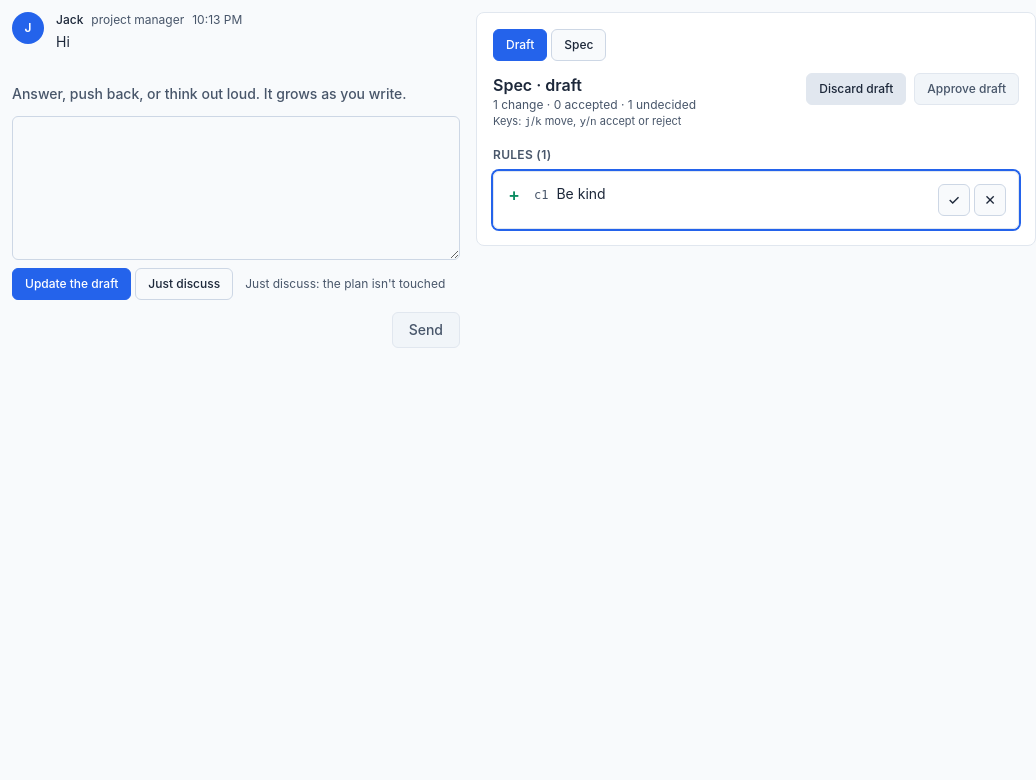
Test: SpecView › can switch between the draft and the spec
Expected: the heading "Spec · draft" is shown, [493,75,582,95]
Click the button "Spec".
click(579, 45)  # box [551,29,606,61]
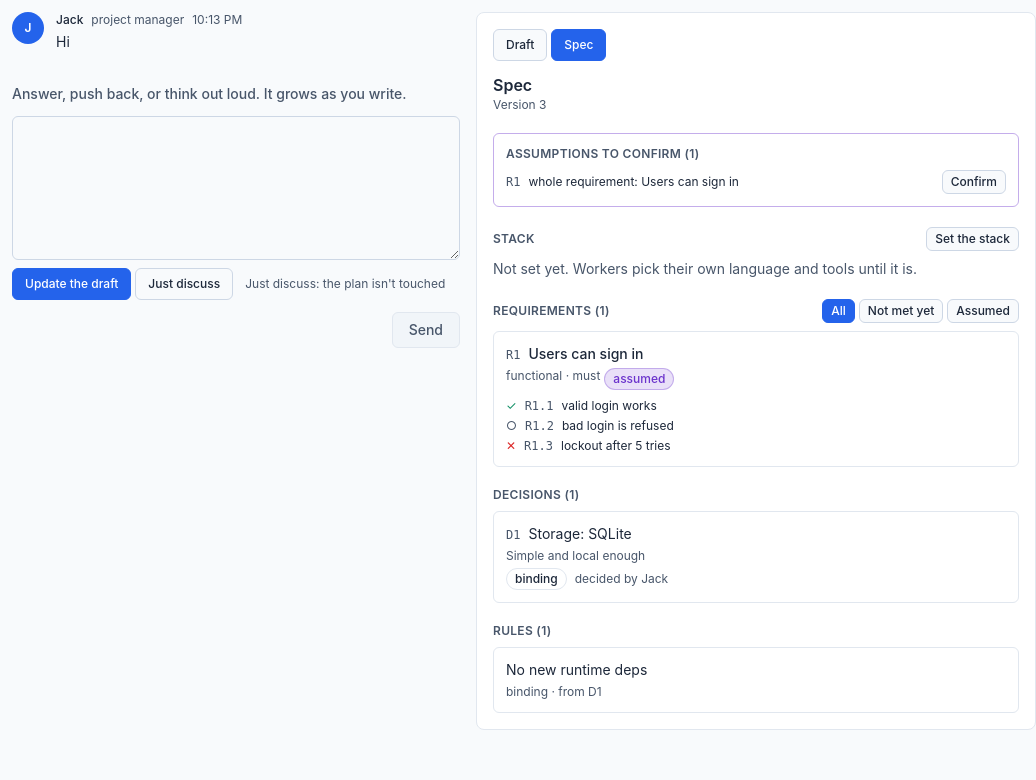
Result: the text "Version 3" is shown at [493,97,546,112]
Click the button "Draft".
click(520, 45)  # box [493,29,547,61]
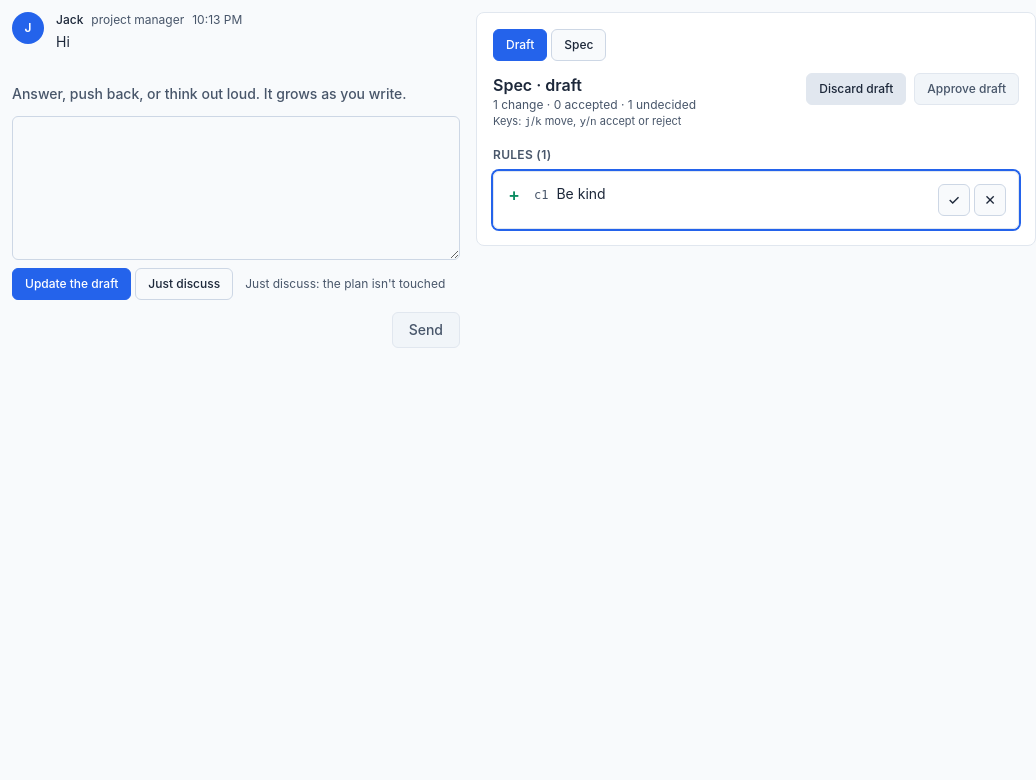
Result: the heading "Spec · draft" is shown at [493,75,582,95]
